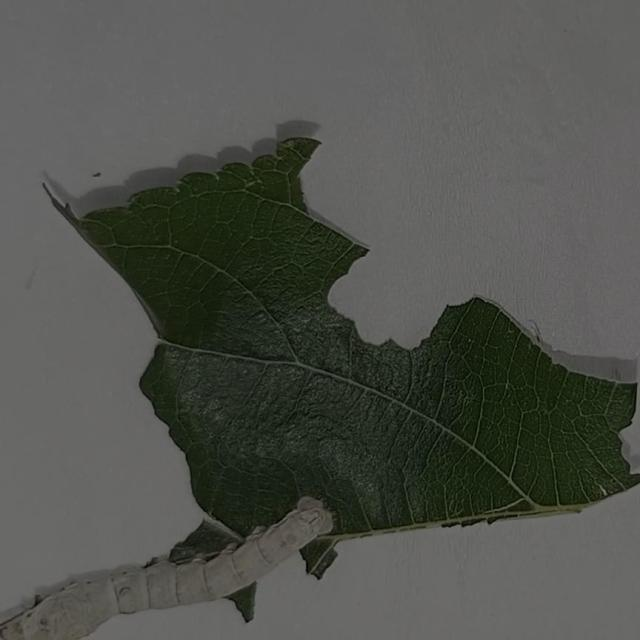Healthy: (1, 458, 370, 640)
